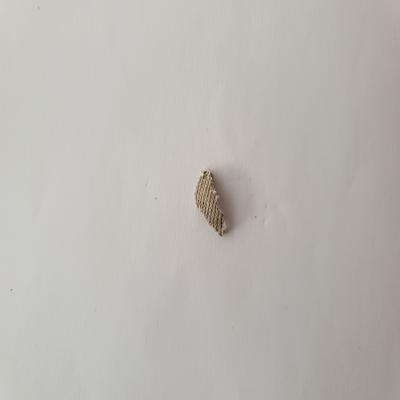plastic: (192, 167, 240, 241)
